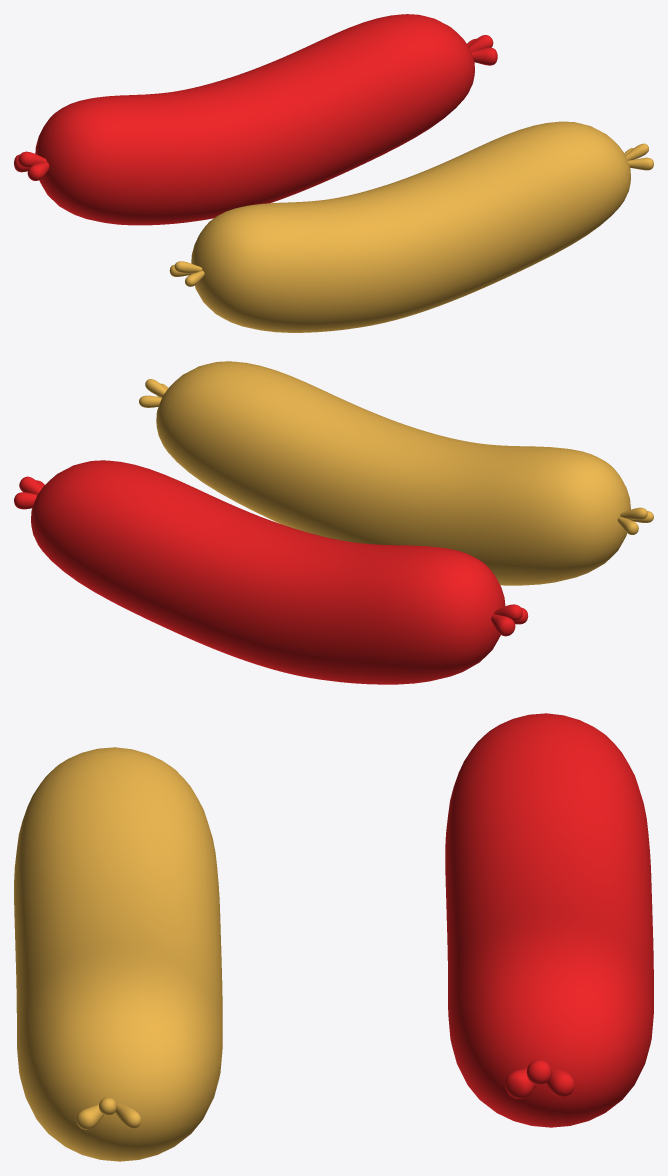
The model's file is sausage2.fbx.
The picture shows the model from 3 angles, top to bottom: view 1: azimuth 30°, elevation 25°; view 2: azimuth 150°, elevation 25°; view 3: azimuth 270°, elevation 25°; orthographic projection. The views are drawn at different scales.
Visible parts, largest first — view 1: Cube.001, Cube, Vert, Vert.001, Vert.002, Vert.003; view 2: Cube, Cube.001, Vert, Vert.001, Vert.002, Vert.003; view 3: Cube.001, Cube, Vert.001, Vert.003.
Boxes of the visible parts, x1=… form: Cube.001: x1=191, y1=121, x2=630, y2=332; Cube: x1=35, y1=14, x2=474, y2=225; Vert: x1=14, y1=151, x2=49, y2=180; Vert.001: x1=467, y1=35, x2=497, y2=65; Vert.002: x1=169, y1=261, x2=204, y2=286; Vert.003: x1=624, y1=143, x2=653, y2=170; Cube: x1=31, y1=460, x2=505, y2=684; Cube.001: x1=156, y1=361, x2=630, y2=585; Vert: x1=491, y1=604, x2=528, y2=636; Vert.001: x1=14, y1=476, x2=44, y2=509; Vert.002: x1=617, y1=507, x2=653, y2=534; Vert.003: x1=139, y1=379, x2=168, y2=407; Cube.001: x1=14, y1=747, x2=222, y2=1161; Cube: x1=445, y1=713, x2=653, y2=1127; Vert.001: x1=505, y1=1059, x2=574, y2=1098; Vert.003: x1=76, y1=1097, x2=141, y2=1129.
Size of the model in its own units: 795 by 239 by 570.
